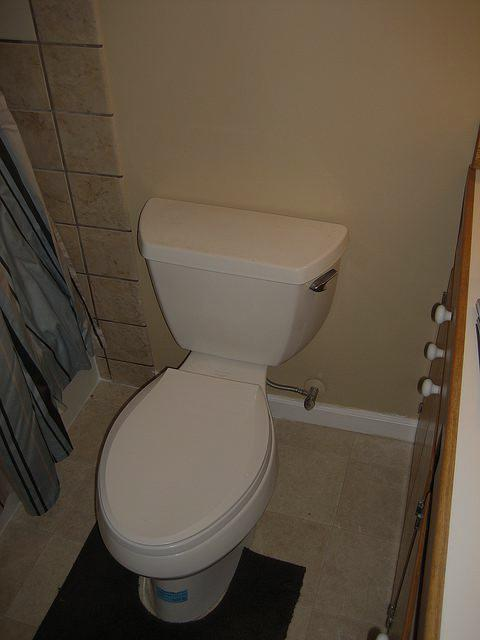Ducha: (2, 9, 83, 542)
Sanitario: (77, 196, 356, 625)
